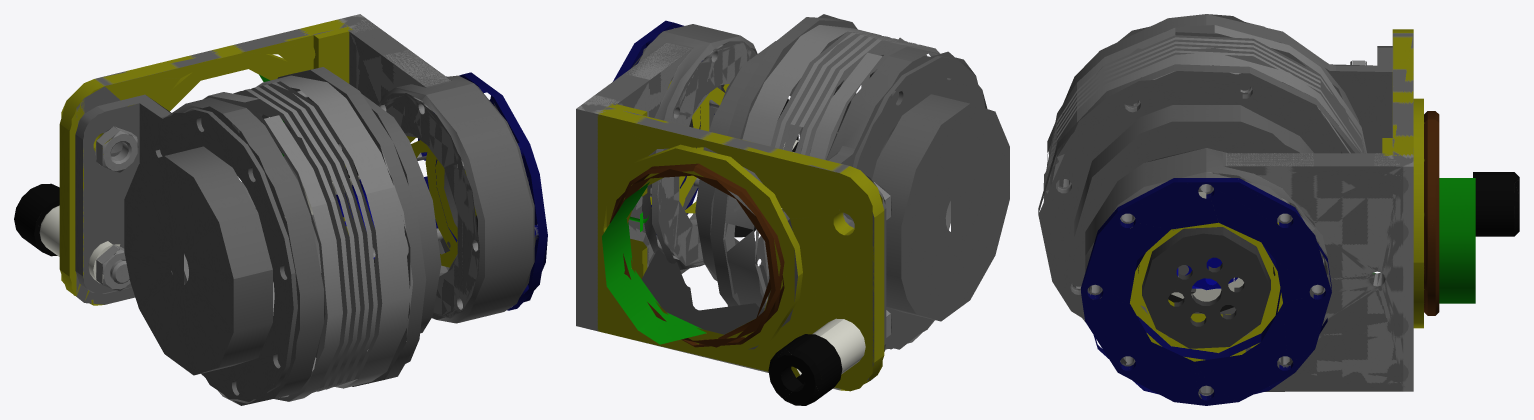
The model's file is armr_sho2_joint.obj.
The picture shows the model from 3 angles, left to right: view 1: azimuth 30°, elevation 25°; view 2: azimuth 150°, elevation 25°; view 3: azimuth 270°, elevation 25°; orthographic projection. The views are drawn at different scales.
Size of the model in its own units: 0.075 by 0.0639 by 0.093.
Materials: 1 (1 with a texture image).
